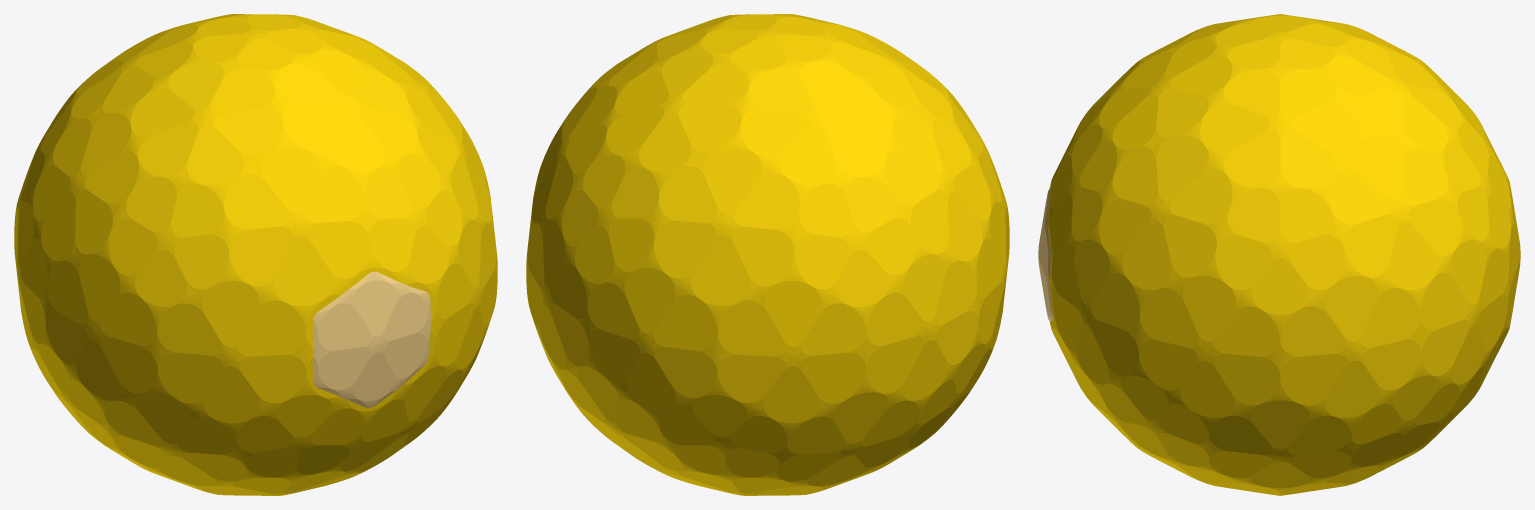
The model's file is myach2.fbx.
3 renders of one model, left to right at view 1: azimuth 30°, elevation 25°; view 2: azimuth 150°, elevation 25°; view 3: azimuth 270°, elevation 25°, orthographic.
Visible parts, largest first — view 1: Icosphere, Icosphere.001; view 2: Icosphere; view 3: Icosphere, Icosphere.001.
Boxes of the visible parts, left/top/right/bottom form: Icosphere: left=14, top=14, right=497, bottom=495; Icosphere.001: left=313, top=271, right=430, bottom=407; Icosphere: left=526, top=14, right=1009, bottom=495; Icosphere: left=1047, top=14, right=1520, bottom=495; Icosphere.001: left=1038, top=187, right=1053, bottom=321.
Bounding box in the file's own units: 184 × 185 × 185.
